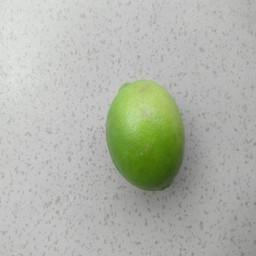Good_lime: (105, 71, 187, 192)
